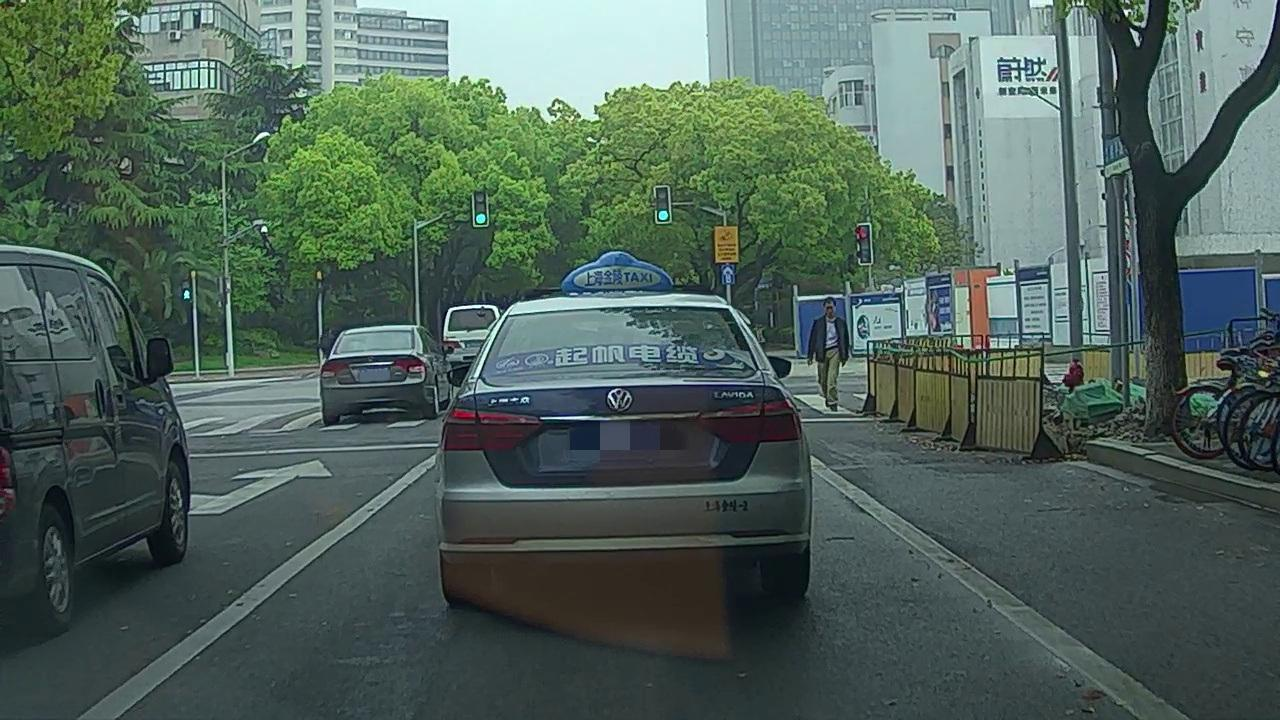traffic_light: (852, 223, 872, 263), (654, 186, 670, 224), (472, 190, 488, 226)
